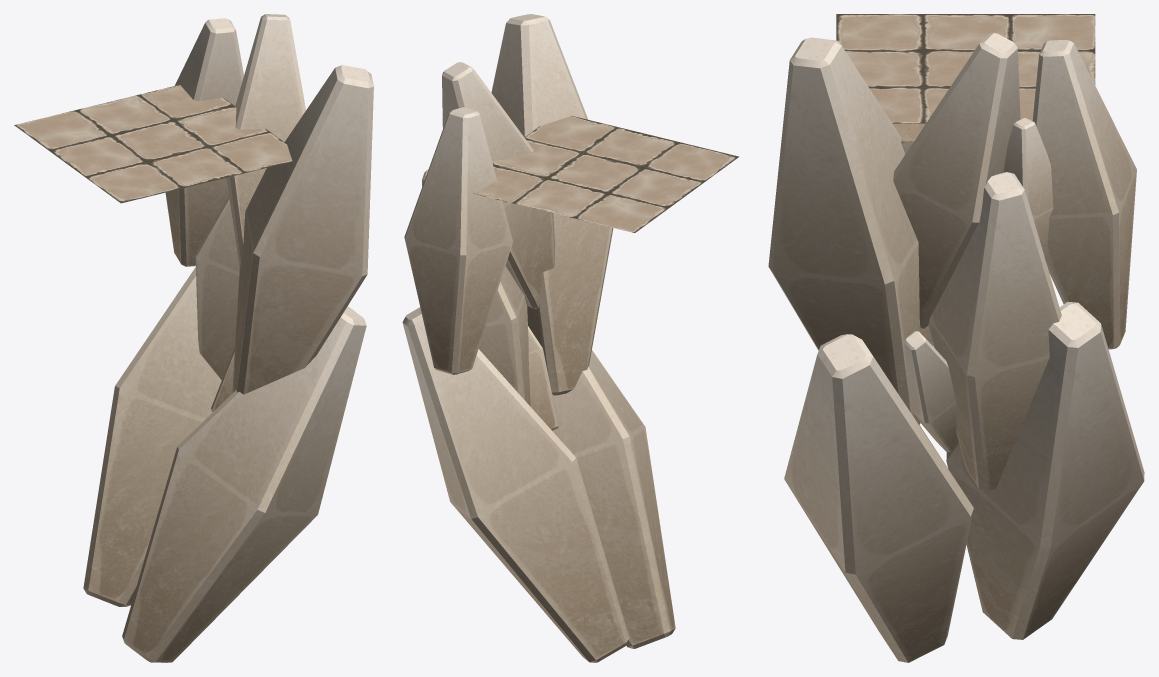
Rendered from side.FBX.
3 renders of one model, left to right at view 1: azimuth 30°, elevation 25°; view 2: azimuth 150°, elevation 25°; view 3: azimuth 270°, elevation 25°, orthographic. The views are drawn at different scales.
Parts seen in each view (by area): view 1: Box034; view 2: Box034; view 3: Box034.
Part boxes in pixels (bbox=[...]): Box034: bbox=[14, 14, 373, 662]; Box034: bbox=[402, 14, 738, 662]; Box034: bbox=[768, 14, 1144, 662].
Size of the model in its own units: 402 by 876 by 421.
